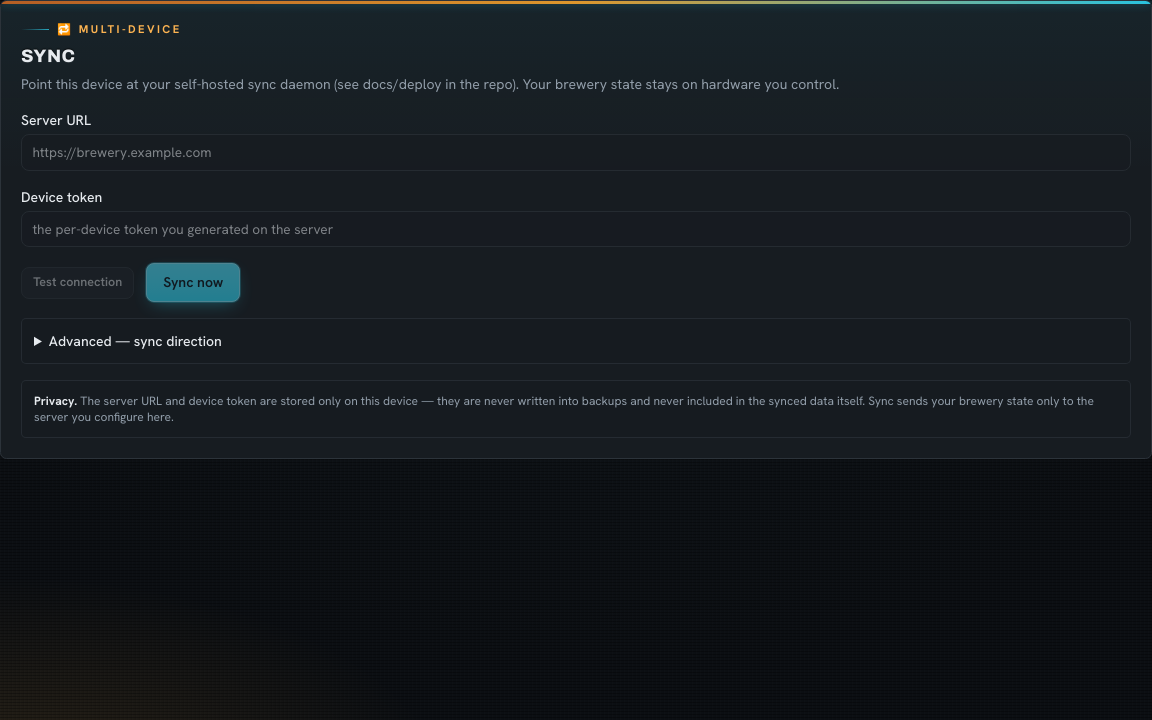
Test: SyncSection (Settings → Sync) › explains WHY a plain-http non-localhost URL is rejected, and accepts http://localhost
Type "http://brewery.example.com" into the field named "Sync server URL" at {"x": 576, "y": 152}, box [21, 134, 1131, 171]
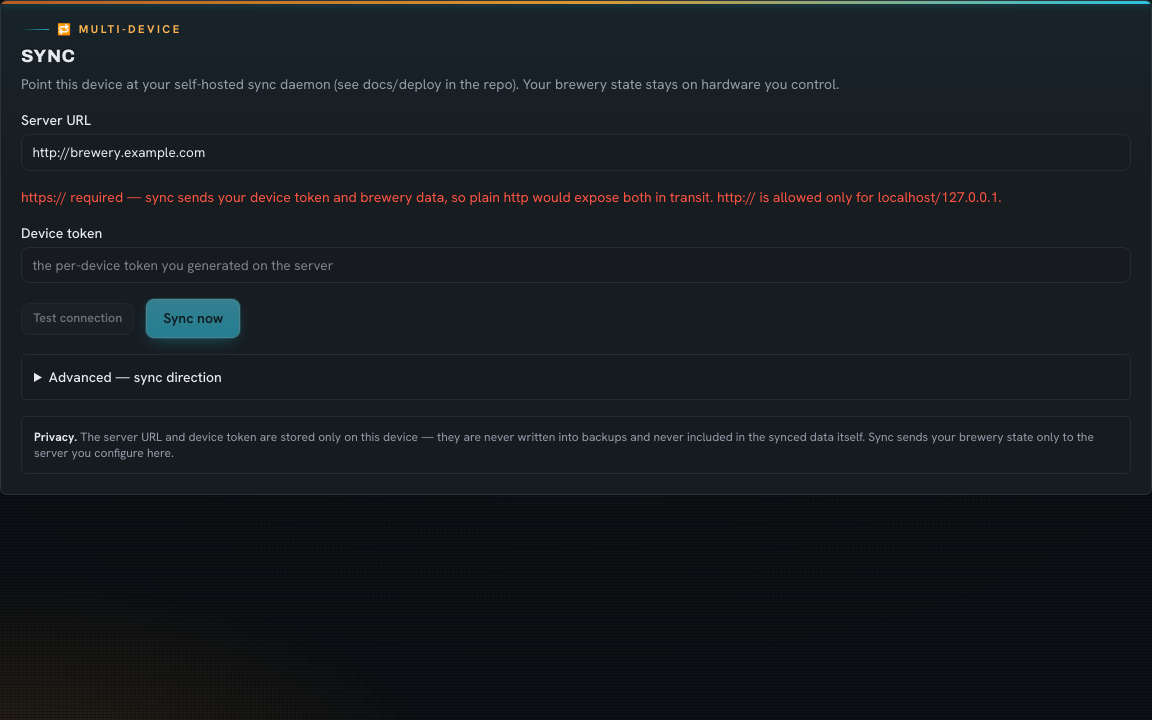
expect the button "Test connection" is disabled: met, box [21, 303, 134, 335]
expect the text with test id "sync-url-error" shows "https:// required": met, box [21, 188, 1002, 206]
Replace the text in the field named "Sync server URL" with "http://localhost:8787" at {"x": 576, "y": 152}, box [21, 134, 1131, 171]
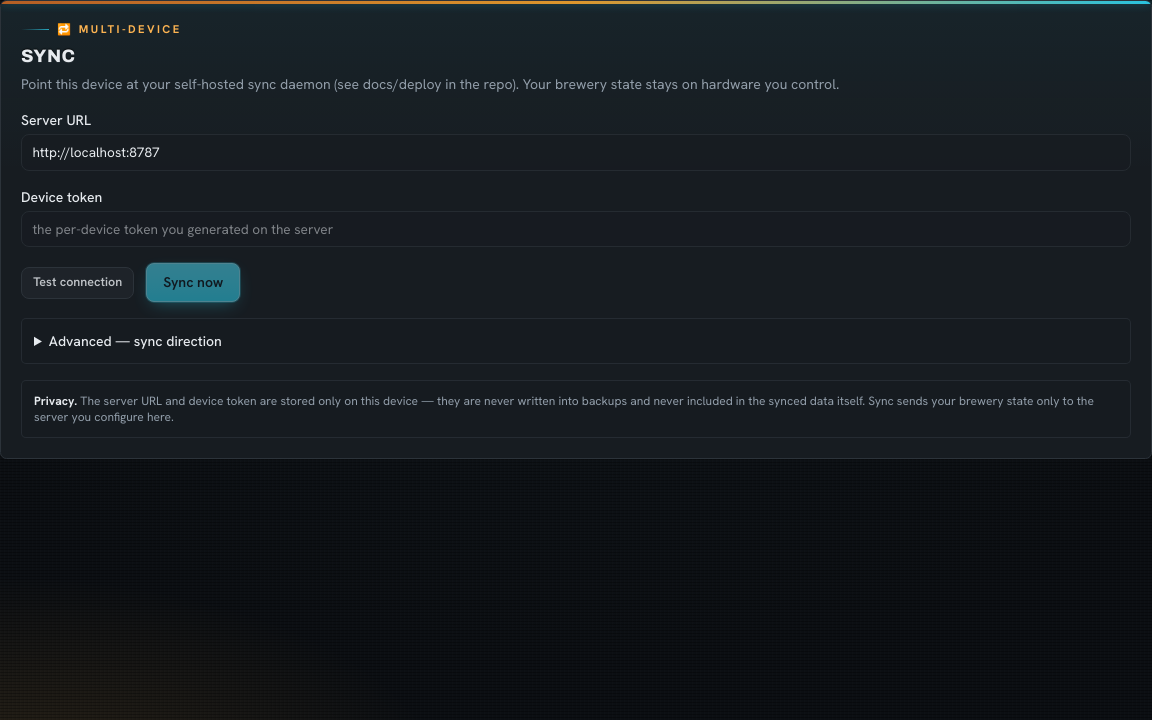
expect the text with test id "sync-url-error" is gone: met
expect the button "Test connection" is enabled: met, box [21, 267, 134, 299]
